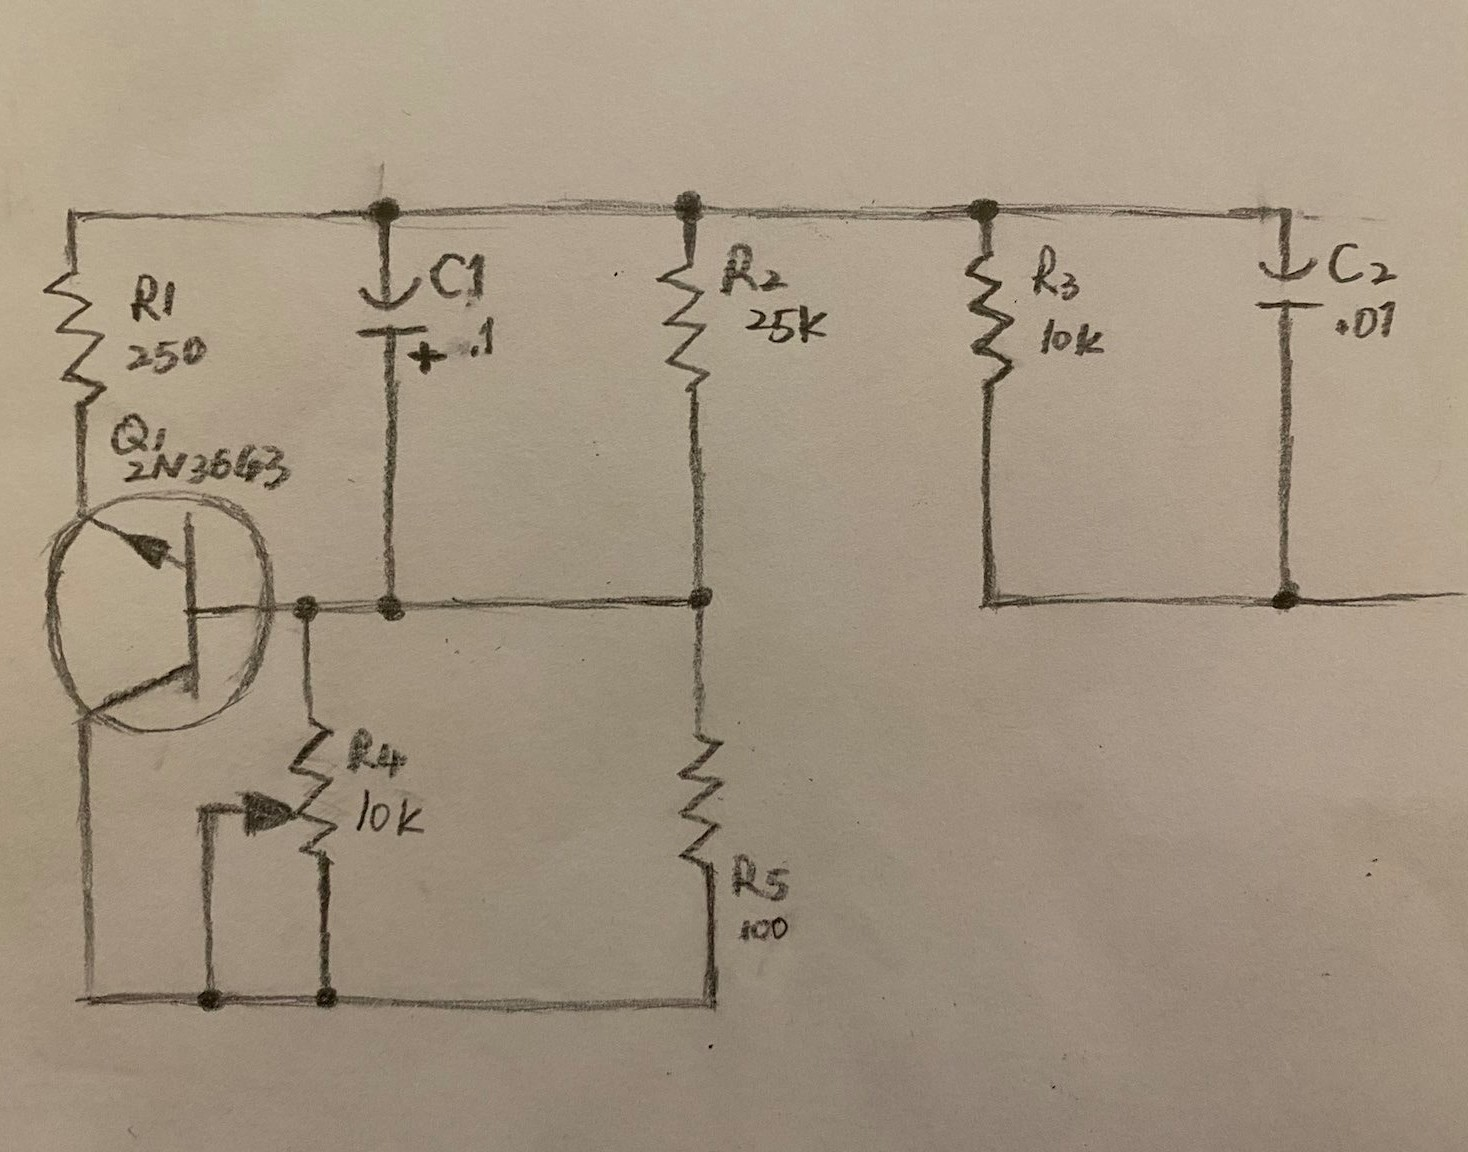capacitor.polarized: (354, 274, 452, 376)
capacitor.unpolarized: (1254, 254, 1327, 315)
junction: (679, 972, 741, 1030), (962, 569, 1022, 628), (183, 971, 243, 1029), (670, 569, 729, 624), (294, 971, 356, 1023), (1251, 569, 1308, 625), (660, 182, 724, 230), (363, 579, 419, 633), (352, 186, 413, 233), (67, 963, 114, 1022), (954, 182, 1012, 230), (180, 787, 226, 835), (285, 586, 330, 634), (1259, 186, 1310, 229), (56, 193, 97, 231)
resistor: (41, 266, 111, 413), (959, 247, 1024, 399), (652, 255, 716, 399), (677, 730, 723, 877)
resistor.adjustable: (234, 715, 347, 865)
terminal: (1395, 580, 1468, 611)
text: (119, 448, 292, 496), (745, 300, 832, 356), (720, 242, 794, 299), (355, 786, 427, 845), (346, 717, 409, 780), (123, 335, 210, 380), (1327, 236, 1400, 289), (726, 849, 796, 904), (1037, 315, 1111, 365), (122, 268, 183, 325), (1031, 241, 1087, 304), (1332, 297, 1402, 344), (429, 249, 491, 299), (102, 412, 172, 453), (735, 913, 798, 948), (461, 317, 506, 363)
transistor: (36, 490, 280, 739)
